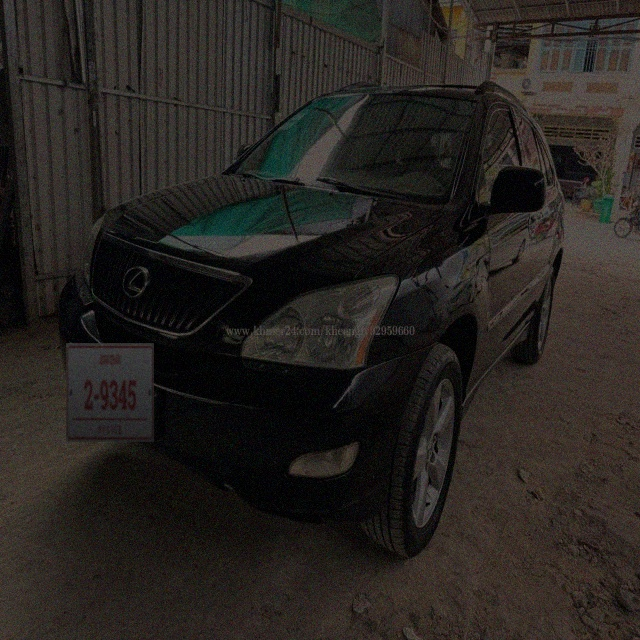Plate Number: (66, 343, 154, 443)
